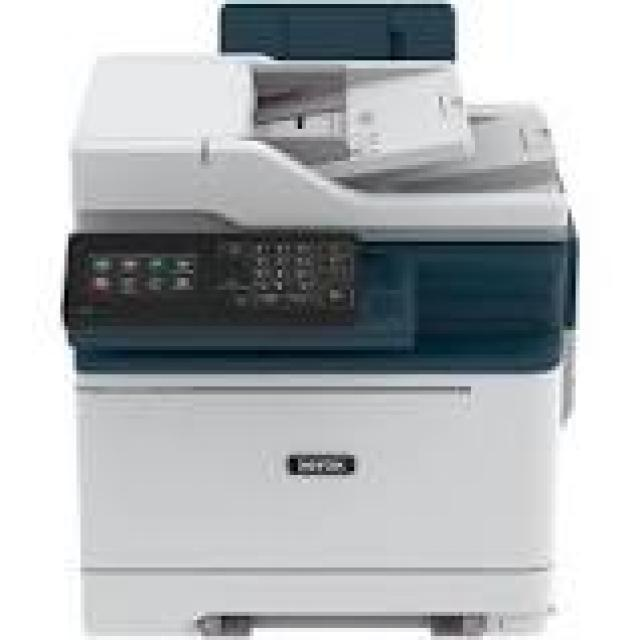printer: (46, 0, 593, 640)
